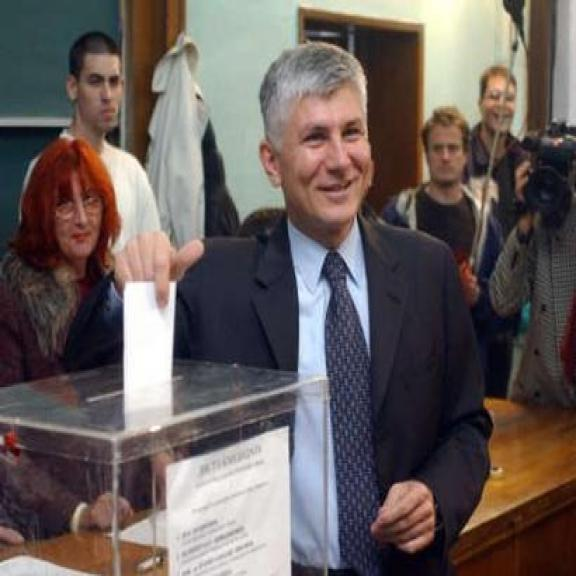face: (259, 83, 371, 238), (70, 49, 125, 142), (46, 182, 106, 259), (427, 123, 469, 188), (480, 72, 515, 139)
